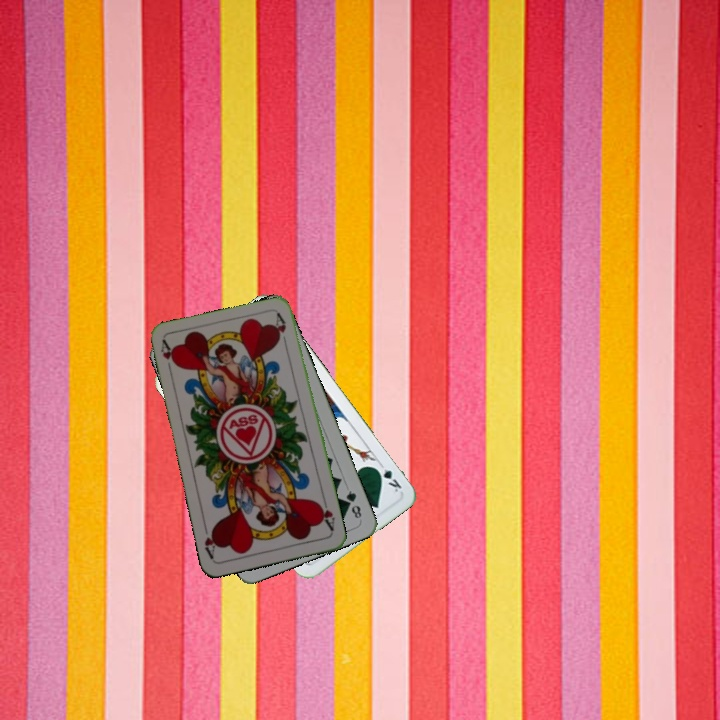G8: (342, 486, 364, 521)
GK: (371, 459, 404, 495)
HA: (314, 494, 338, 534), (157, 337, 180, 377)
